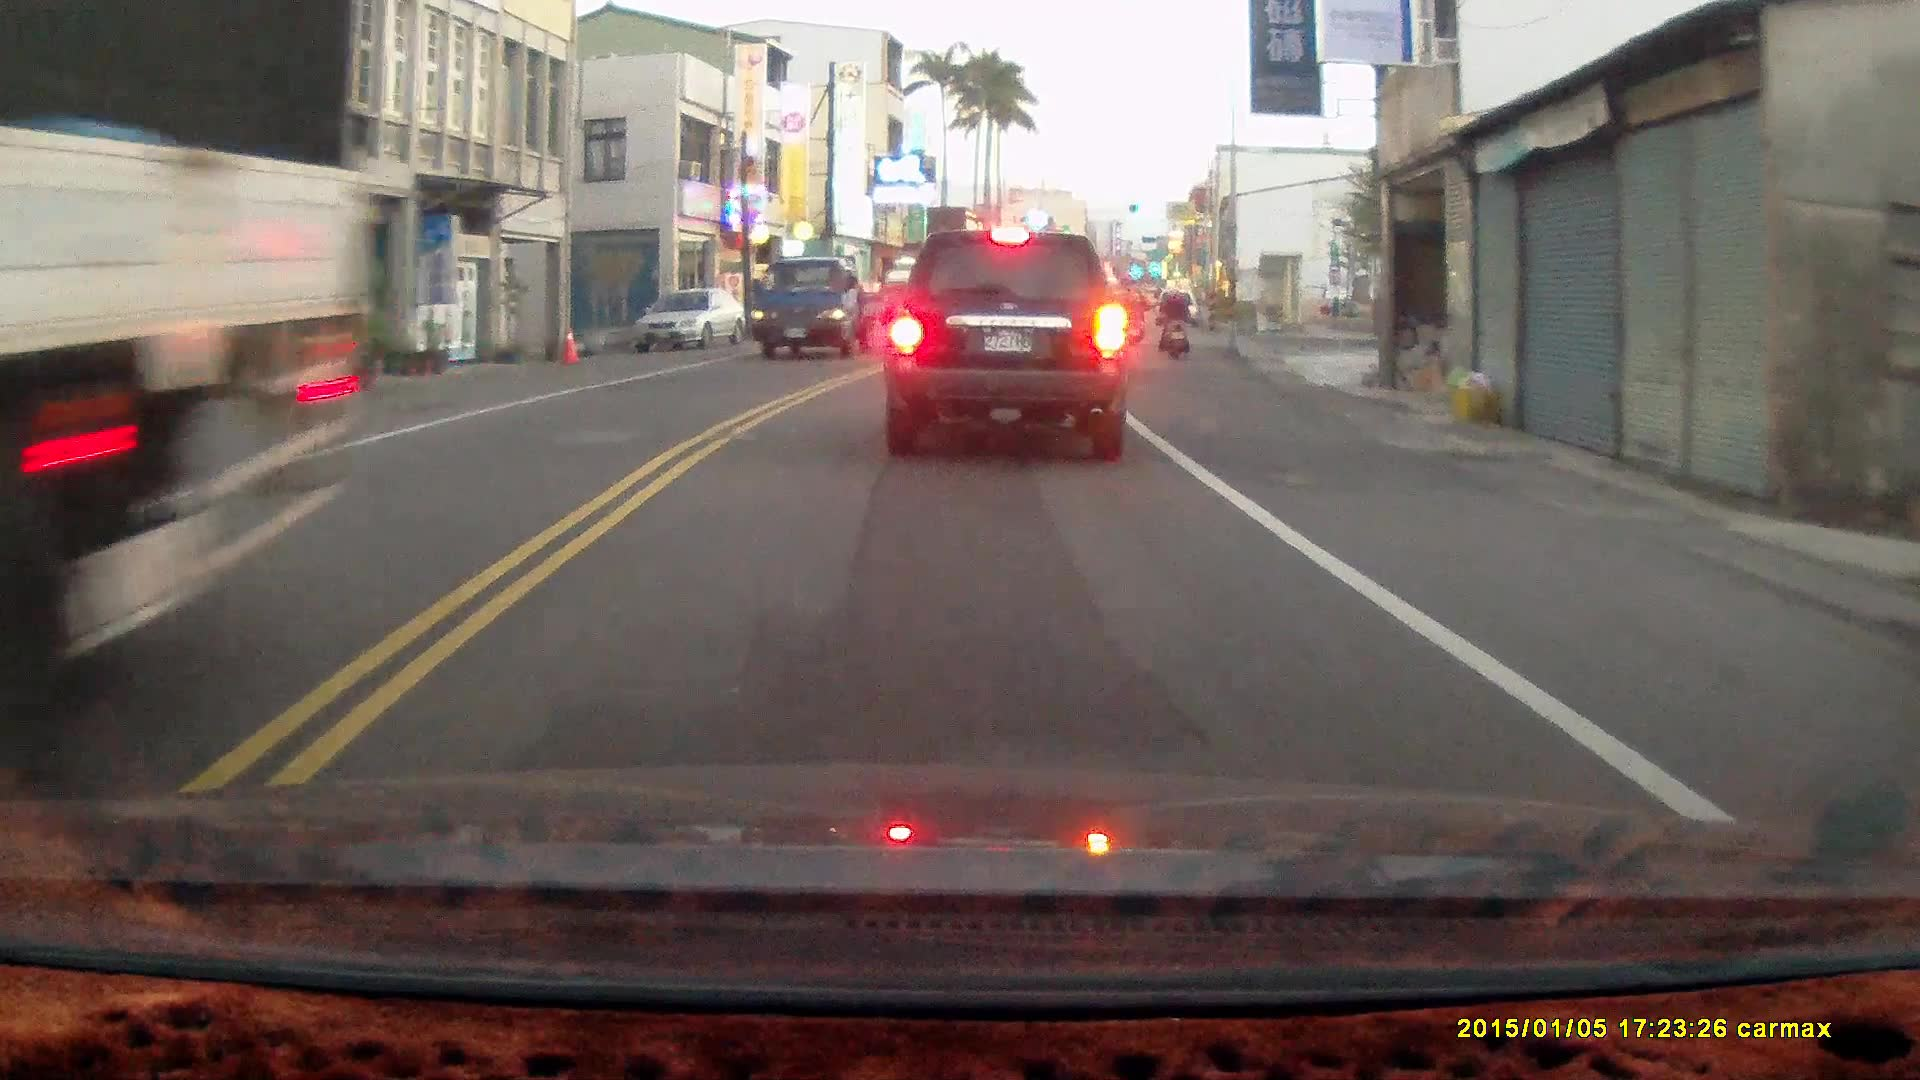rider: (1156, 280, 1187, 361), (1118, 282, 1145, 347)
vehicle: (1, 8, 434, 798), (881, 226, 1131, 461), (747, 256, 878, 364), (631, 287, 750, 352)
